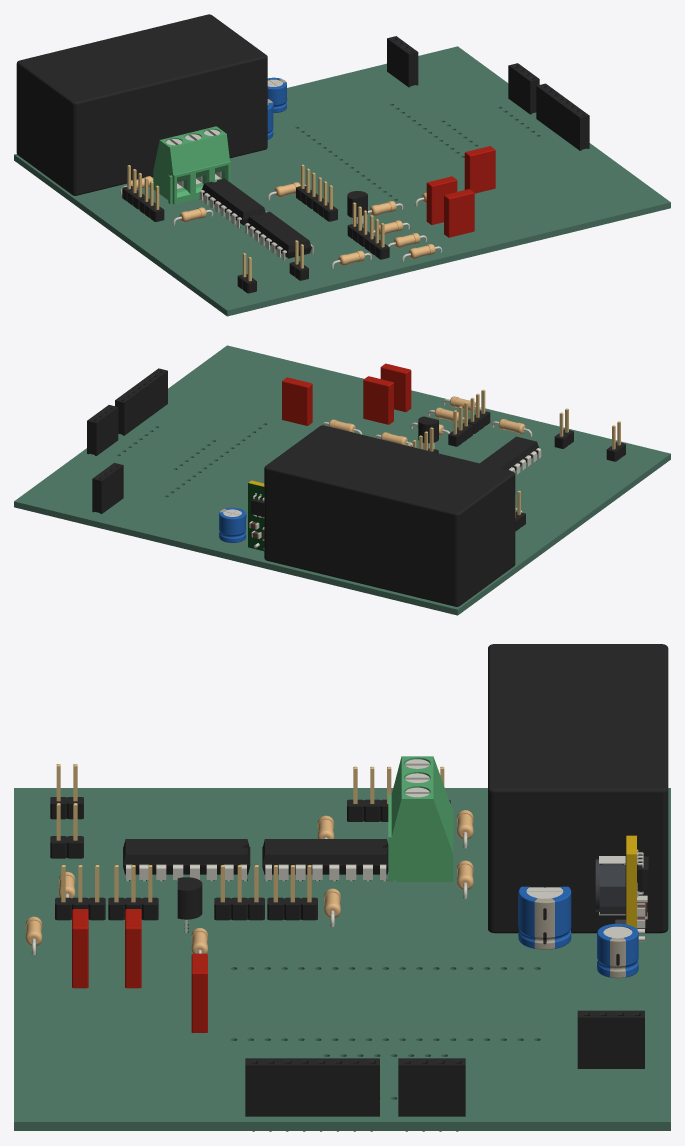
File: pcb_3d.glb
3 views of the same model, one above another, from view 1: azimuth 30°, elevation 25°; view 2: azimuth 150°, elevation 25°; view 3: azimuth 270°, elevation 25° (orthographic). The views are drawn at different scales.
Parts seen in each view (by area): view 1: =>[0:1:1:28], =>[0:1:1:15], =>[0:1:1:17], =>[0:1:1:9] (×6), =>[0:1:1:7] (×3), =>[0:1:1:13] (×2), =>[0:1:1:21] (×2), =>[0:1:1:27], =>[0:1:1:5] (×2), =>[0:1:1:25], =>[0:1:1:23]; view 2: =>[0:1:1:28], =>[0:1:1:15], =>[0:1:1:7] (×3), =>[0:1:1:21] (×2), =>[0:1:1:27], =>[0:1:1:13], =>[0:1:1:9] (×2), =>[0:1:1:19], =>[0:1:1:5] (×2), =>[0:1:1:25], =>[0:1:1:23]; view 3: =>[0:1:1:28], =>[0:1:1:15], =>[0:1:1:13] (×2), =>[0:1:1:21] (×2), =>[0:1:1:27], =>[0:1:1:9] (×5), =>[0:1:1:17], =>[0:1:1:7] (×3), =>[0:1:1:19], =>[0:1:1:11], =>[0:1:1:25], =>[0:1:1:5] (×2) (+1 smaller).
Part boxes in pixels (x1=…): =>[0:1:1:28]: x1=14, y1=46, x2=670, y2=316; =>[0:1:1:15]: x1=16, y1=14, x2=267, y2=195; =>[0:1:1:17]: x1=153, y1=126, x2=230, y2=204; =>[0:1:1:9] (×6): x1=122, y1=164, x2=389, y2=259; =>[0:1:1:7] (×3): x1=426, y1=146, x2=495, y2=237; =>[0:1:1:13] (×2): x1=199, y1=178, x2=313, y2=261; =>[0:1:1:21] (×2): x1=387, y1=36, x2=539, y2=114; =>[0:1:1:27]: x1=536, y1=83, x2=589, y2=150; =>[0:1:1:5] (×2): x1=237, y1=240, x2=308, y2=293; =>[0:1:1:25]: x1=267, y1=77, x2=287, y2=112; =>[0:1:1:23]: x1=347, y1=191, x2=367, y2=223; =>[0:1:1:28]: x1=14, y1=345, x2=670, y2=615; =>[0:1:1:15]: x1=264, y1=425, x2=515, y2=614; =>[0:1:1:7] (×3): x1=282, y1=363, x2=411, y2=425; =>[0:1:1:21] (×2): x1=87, y1=405, x2=123, y2=514; =>[0:1:1:27]: x1=115, y1=368, x2=167, y2=435; =>[0:1:1:13]: x1=480, y1=436, x2=541, y2=474; =>[0:1:1:9] (×2): x1=448, y1=389, x2=490, y2=446; =>[0:1:1:19]: x1=248, y1=480, x2=264, y2=550; =>[0:1:1:5] (×2): x1=554, y1=408, x2=625, y2=461; =>[0:1:1:25]: x1=219, y1=507, x2=246, y2=542; =>[0:1:1:23]: x1=418, y1=416, x2=438, y2=448; =>[0:1:1:28]: x1=14, y1=788, x2=670, y2=1130; =>[0:1:1:15]: x1=488, y1=644, x2=668, y2=933; =>[0:1:1:13] (×2): x1=123, y1=839, x2=388, y2=881; =>[0:1:1:21] (×2): x1=398, y1=1010, x2=644, y2=1131; =>[0:1:1:27]: x1=245, y1=1058, x2=379, y2=1131; =>[0:1:1:9] (×5): x1=55, y1=766, x2=391, y2=920; =>[0:1:1:17]: x1=388, y1=756, x2=453, y2=881; =>[0:1:1:7] (×3): x1=72, y1=909, x2=207, y2=1032; =>[0:1:1:19]: x1=595, y1=835, x2=648, y2=941; =>[0:1:1:11]: x1=518, y1=886, x2=571, y2=949; =>[0:1:1:25]: x1=597, y1=923, x2=638, y2=978; =>[0:1:1:5] (×2): x1=50, y1=764, x2=83, y2=858.
Bounding box in the file's own units: 0.119 × 0.0276 × 0.099.
